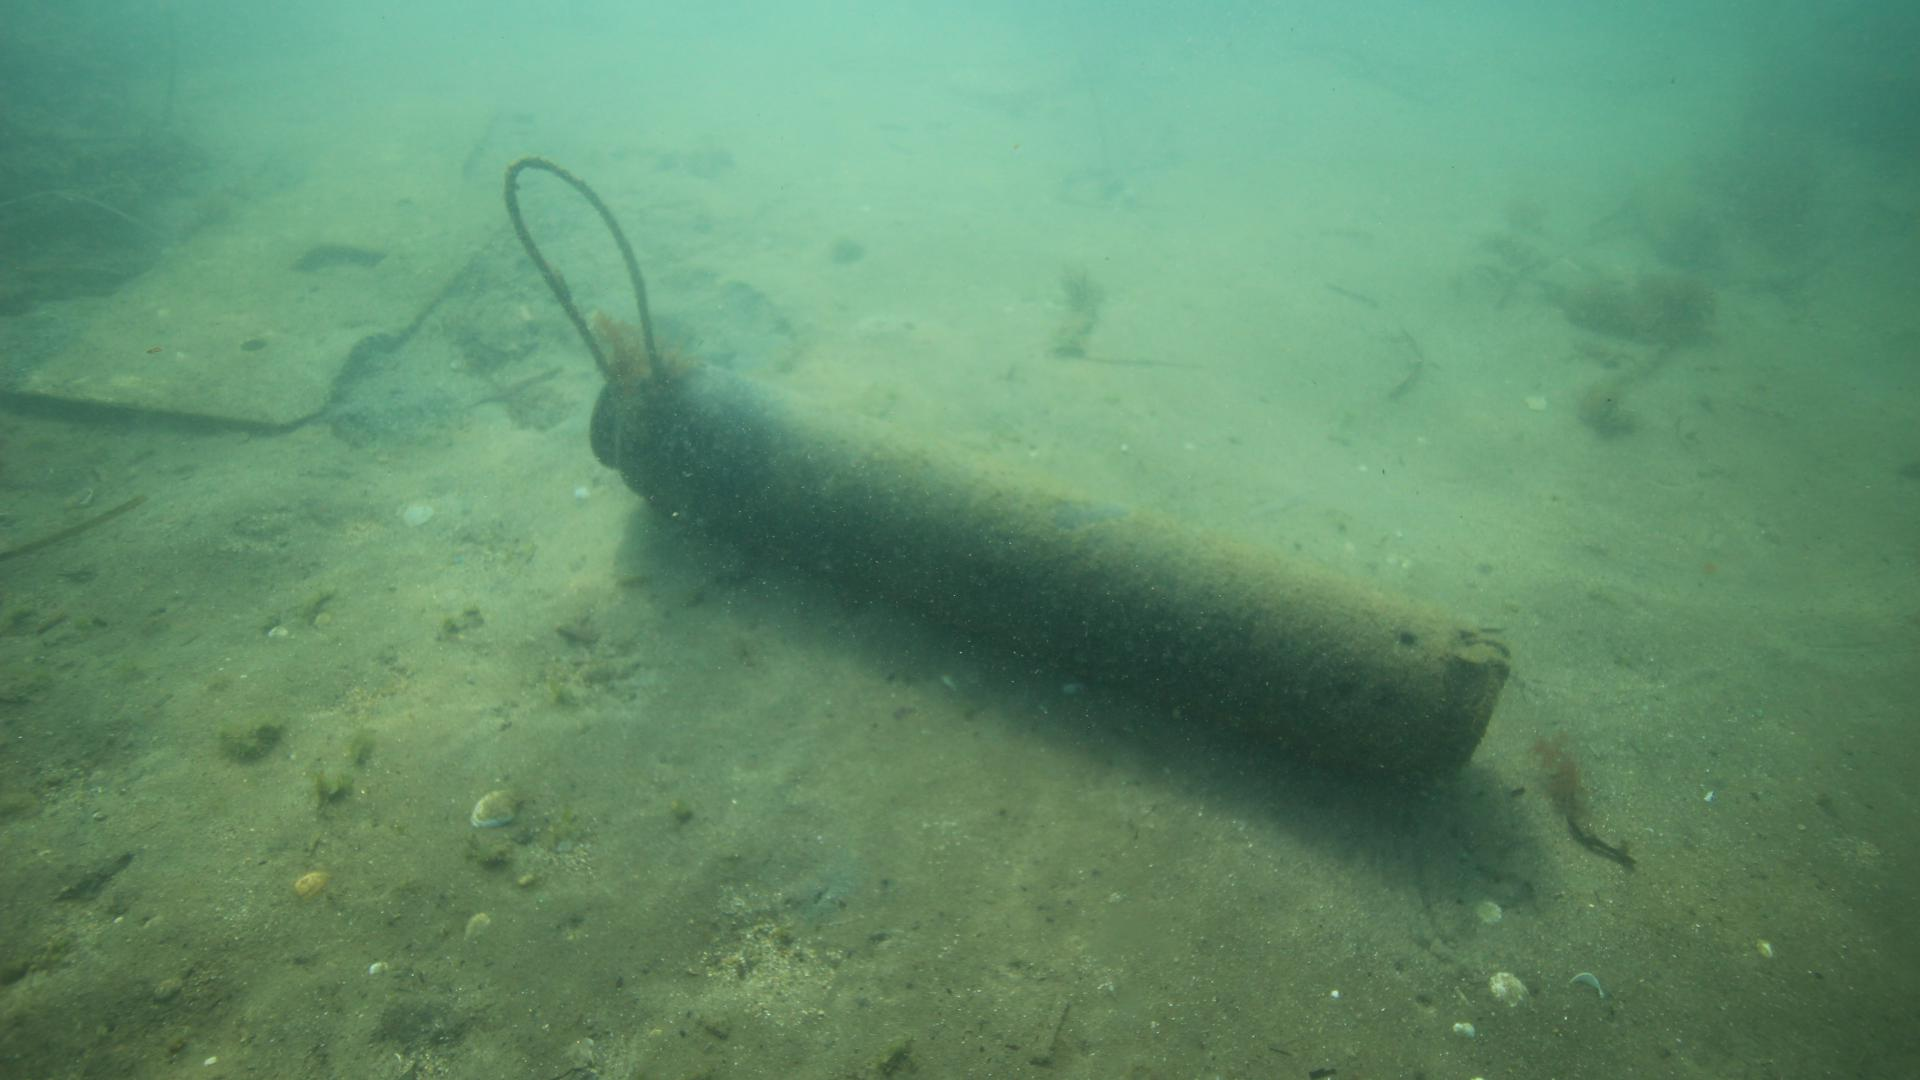eel fish trap: (583, 344, 1516, 783)
rope: (502, 152, 665, 385)
